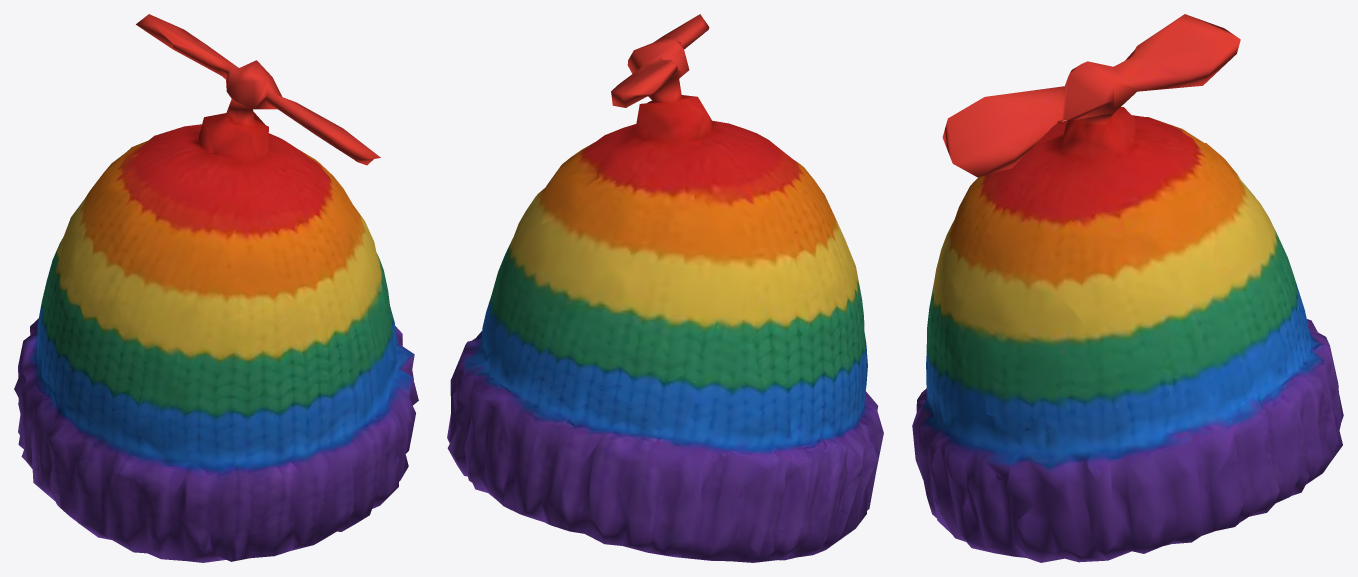
The model's file is beanie.glb.
3 renders of one model, left to right at view 1: azimuth 30°, elevation 25°; view 2: azimuth 150°, elevation 25°; view 3: azimuth 270°, elevation 25°, orthographic. The views are drawn at different scales.
Parts seen in each view (by area): view 1: tripo_node_7e701e04-4a24-4b0f-8dc8-7180ac83cc03; view 2: tripo_node_7e701e04-4a24-4b0f-8dc8-7180ac83cc03; view 3: tripo_node_7e701e04-4a24-4b0f-8dc8-7180ac83cc03.
Part boxes in pixels (x1,y1,x2,y2): tripo_node_7e701e04-4a24-4b0f-8dc8-7180ac83cc03: (14,14,418,562); tripo_node_7e701e04-4a24-4b0f-8dc8-7180ac83cc03: (447,14,883,562); tripo_node_7e701e04-4a24-4b0f-8dc8-7180ac83cc03: (912,14,1343,562).
Bounding box in the file's own units: 0.8036 × 1 × 0.8029.
Materials: 1 (1 with a texture image).
